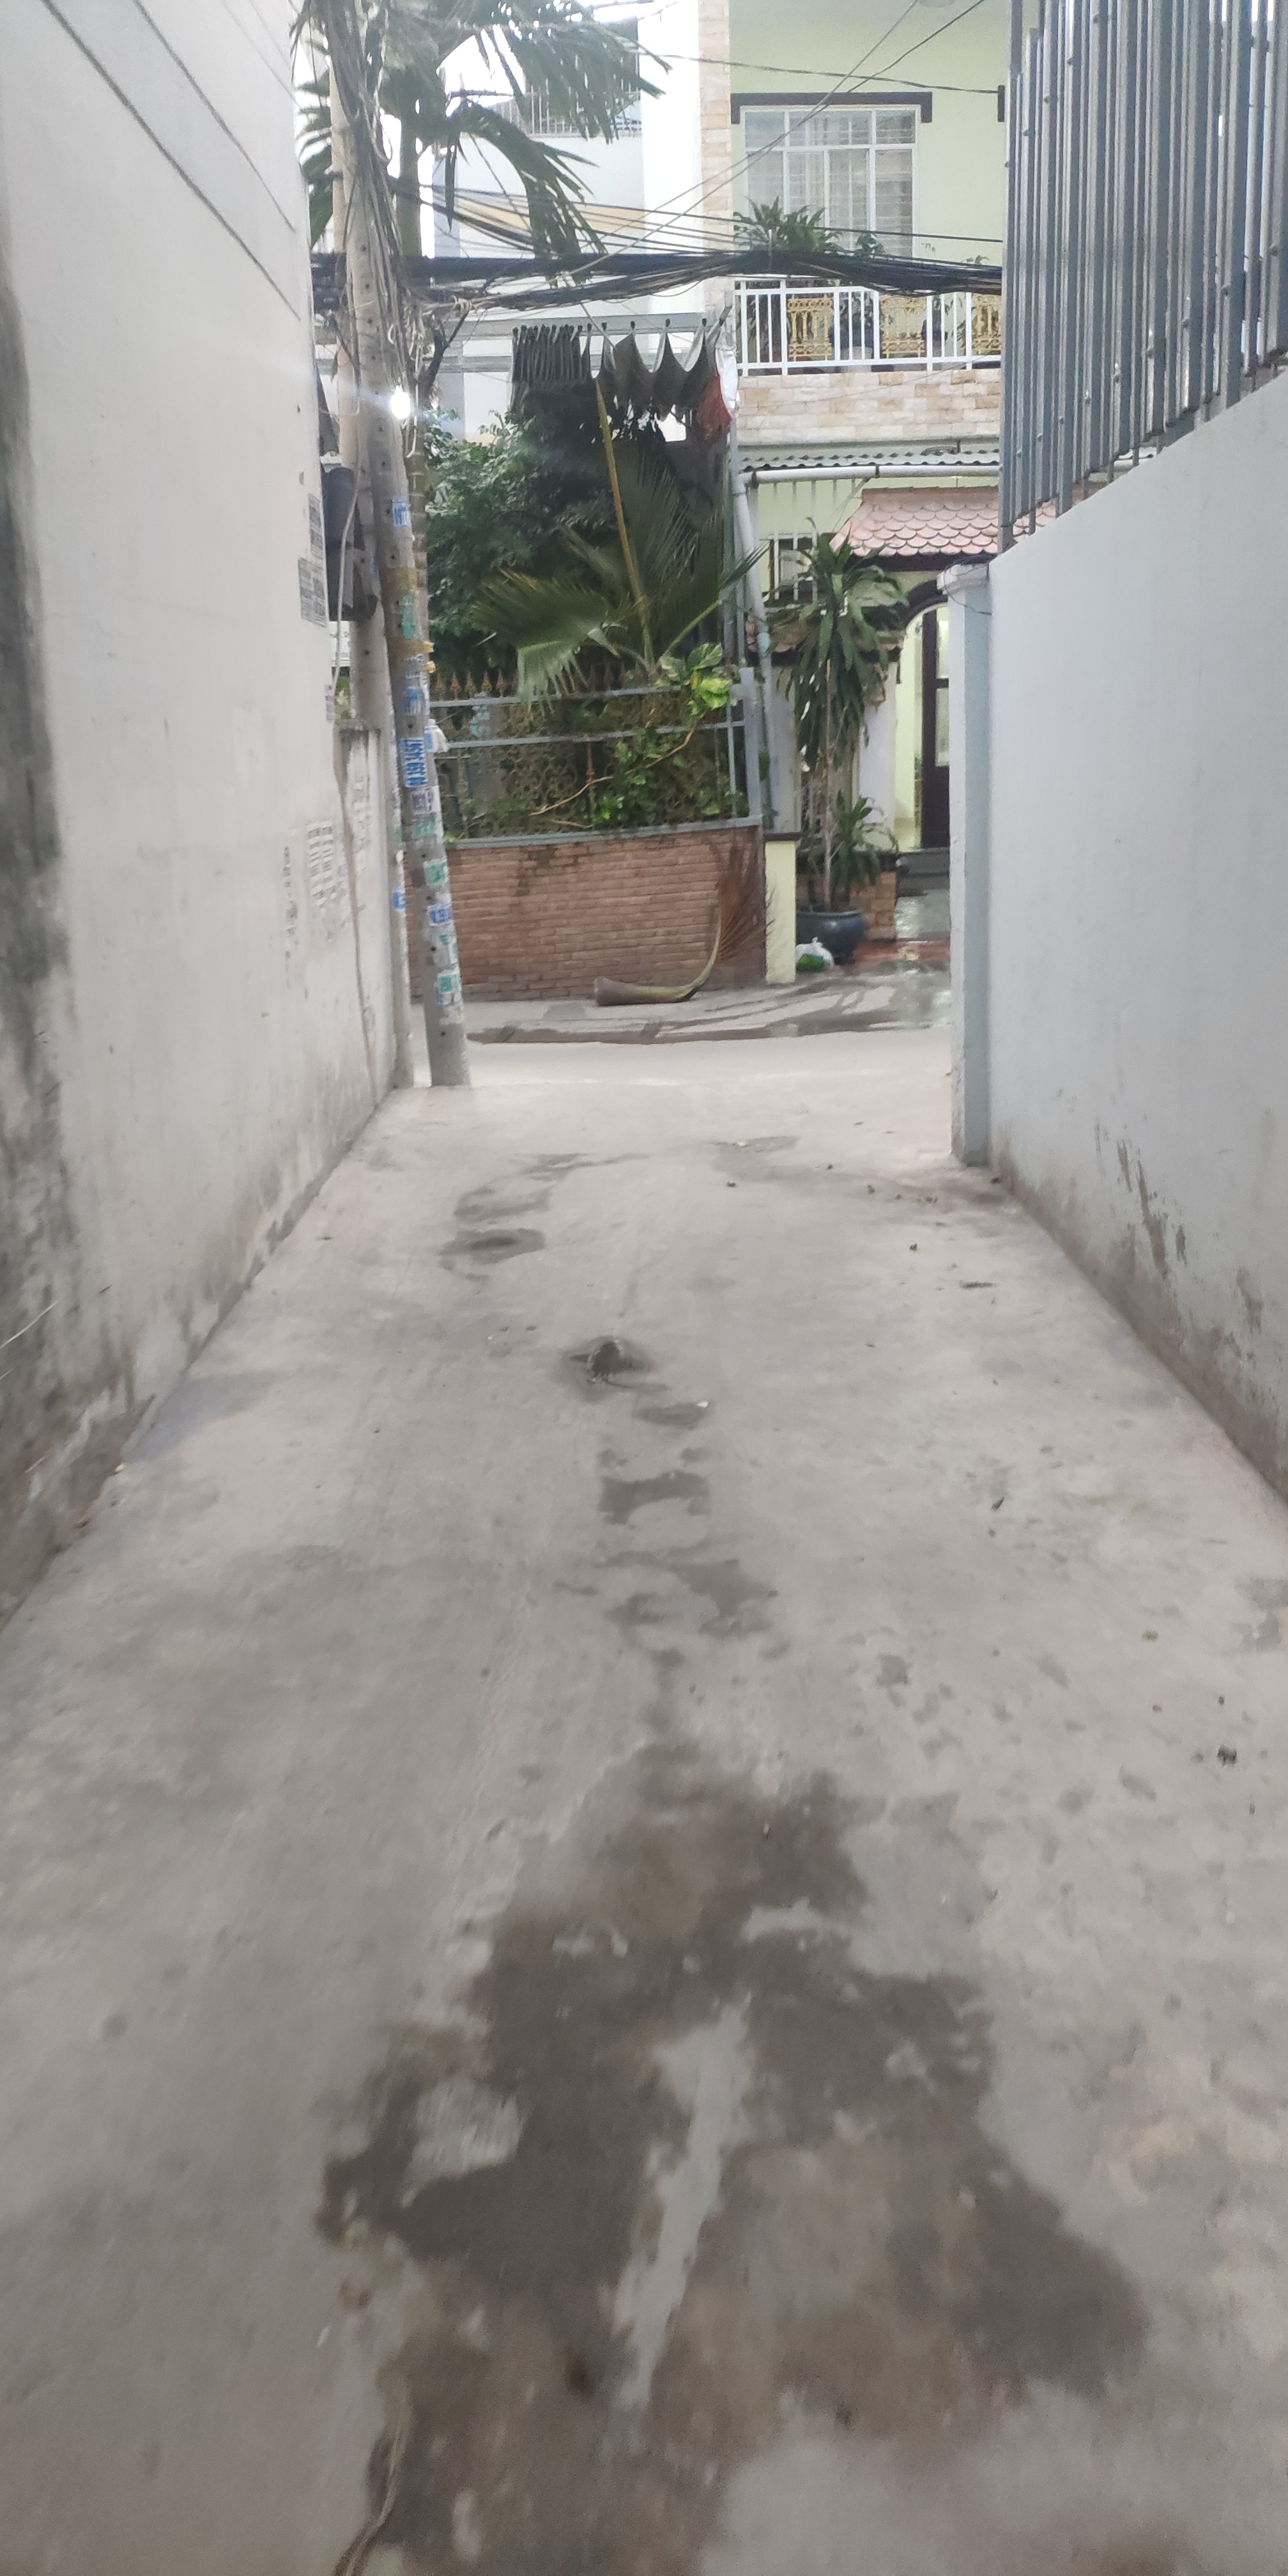hole: (560, 1327, 647, 1387), (440, 1222, 536, 1263)
